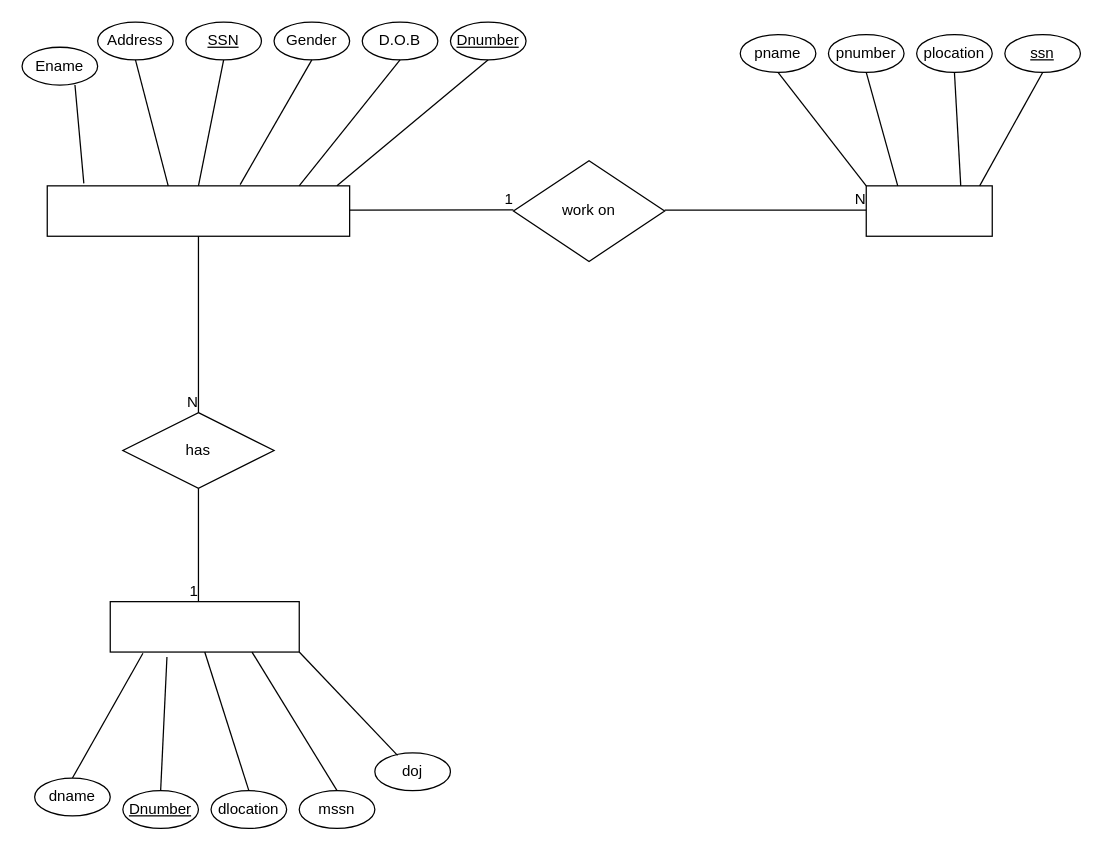
Some shapes in this 1103 by 851 pixel diagram are drawn without their labels. Each missing label, with the centre of its shape:
"department" goes at pixel 204 626.
"Employee" goes at pixel 198 210.
"project" goes at pixel 928 210.
